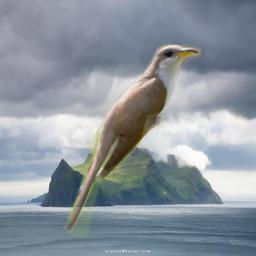Cuckoo: (61, 44, 201, 237)
